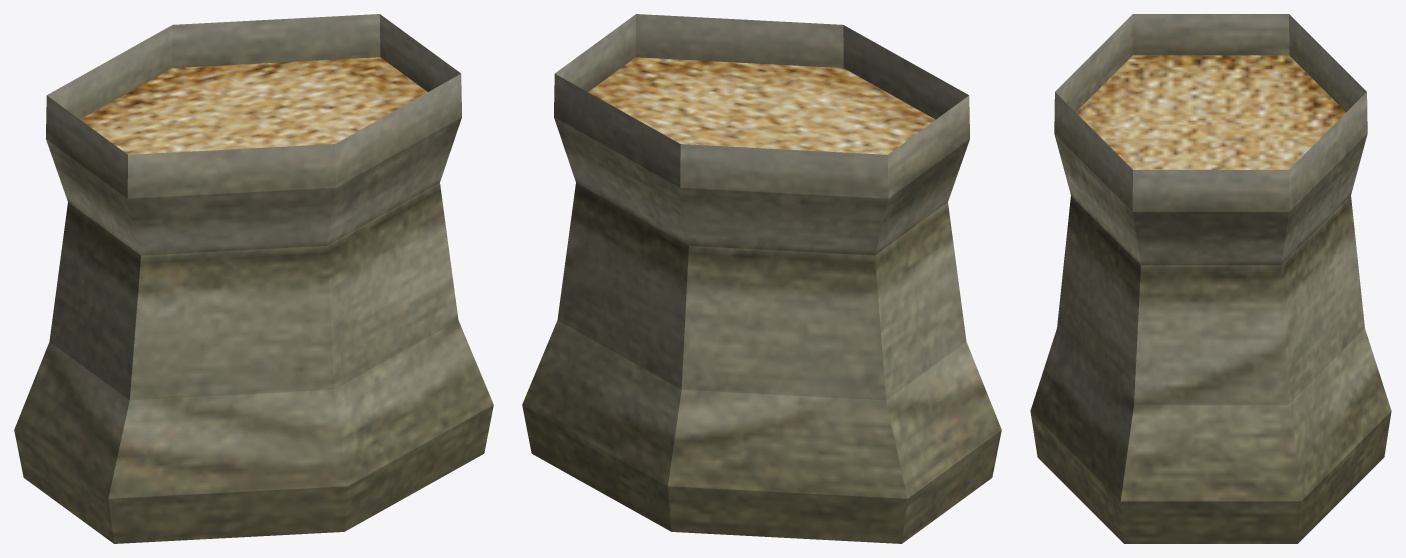
File: Sack.fbx
3 views of the same model, side by side, from view 1: azimuth 30°, elevation 25°; view 2: azimuth 150°, elevation 25°; view 3: azimuth 270°, elevation 25° (orthographic). The views are drawn at different scales.
Visible parts, largest first — view 1: Sack; view 2: Sack; view 3: Sack.
Boxes of the visible parts, x1,y1,x2,y2 form: Sack: (14,14,493,543); Sack: (522,14,1001,543); Sack: (1030,14,1391,543).
Size of the model in its own units: 40.8 by 38.56 by 34.54.
